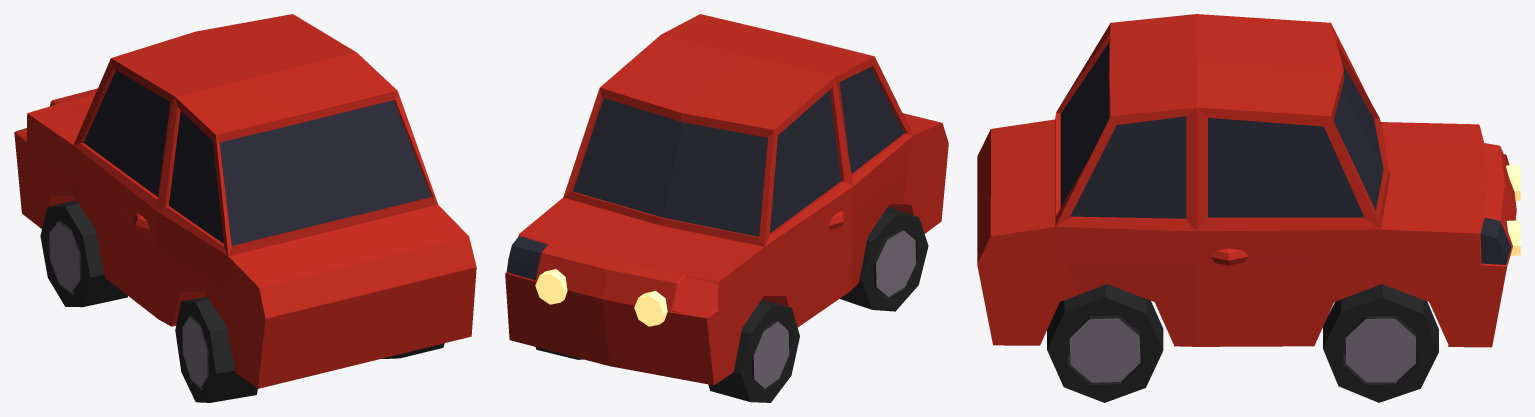
File: CAR1.fbx
3 views of the same model, side by side, from view 1: azimuth 30°, elevation 25°; view 2: azimuth 150°, elevation 25°; view 3: azimuth 270°, elevation 25° (orthographic). The views are drawn at different scales.
Visible parts, largest first — view 1: Cube.002; view 2: Cube.002, light.001; view 3: Cube.002, light.001.
Boxes of the visible parts, <box> form: Cube.002: <box>14,14,476,402</box>; Cube.002: <box>505,14,948,402</box>; light.001: <box>506,236,547,279</box>; Cube.002: <box>977,14,1520,402</box>; light.001: <box>1480,217,1511,264</box>.
Size of the model in its own units: 225 by 247 by 428.
